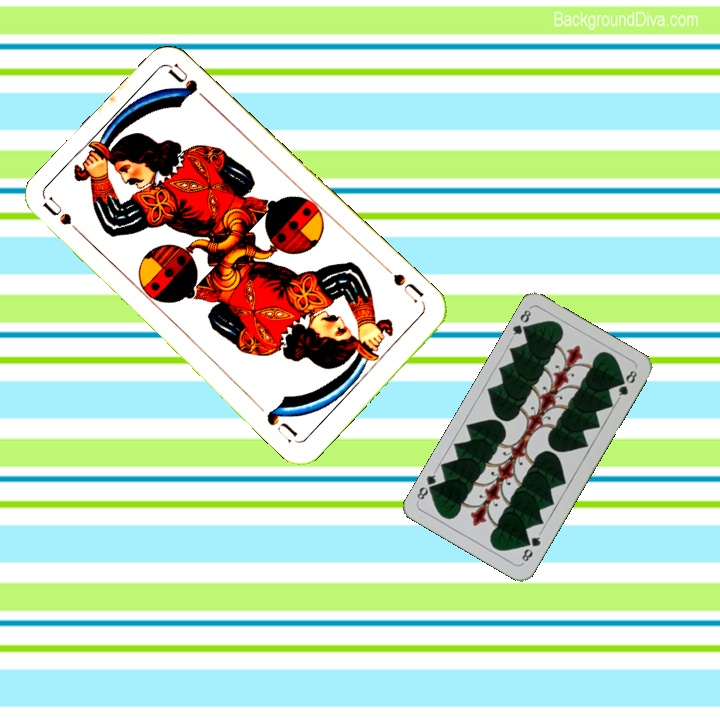G8: (507, 303, 534, 341), (517, 529, 544, 566)
SU: (40, 194, 90, 243), (380, 262, 427, 307)
